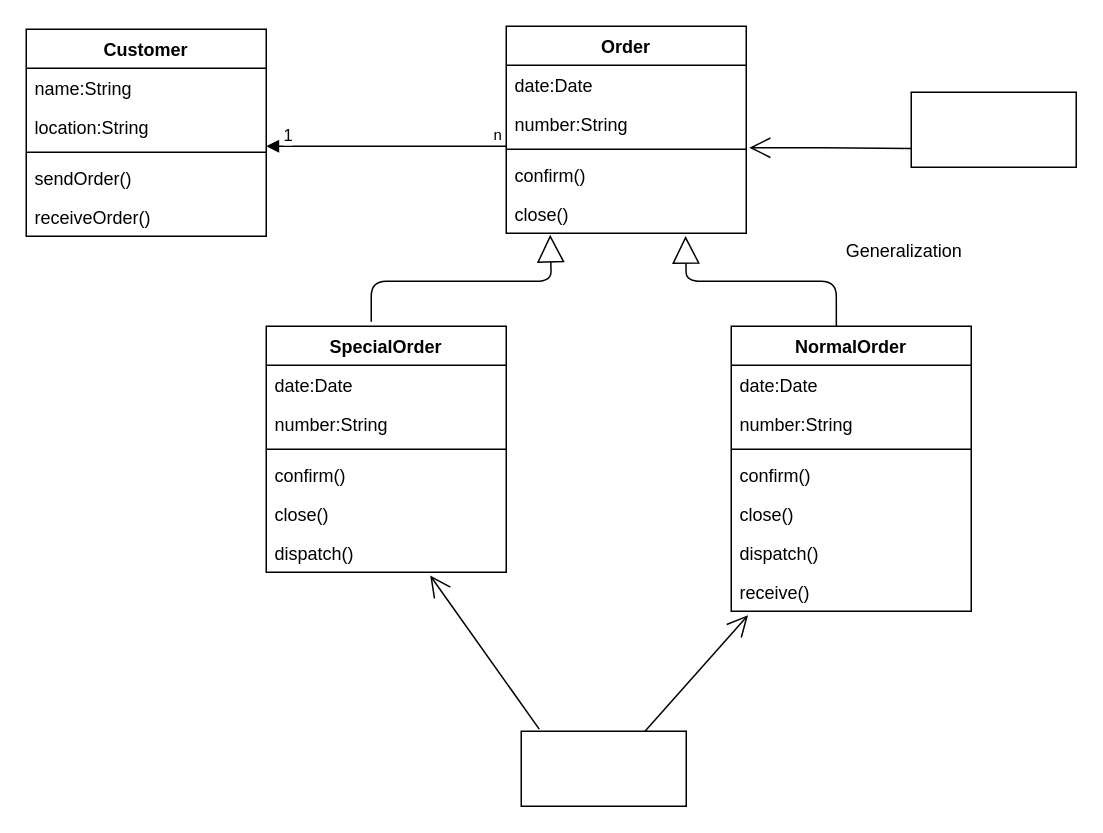
This 1103x833 diagram has some shape labels left out. Each missing label, with the centre of its shape:
"Subclass" belongs at (603,768).
"Superclass" belongs at (993,129).
